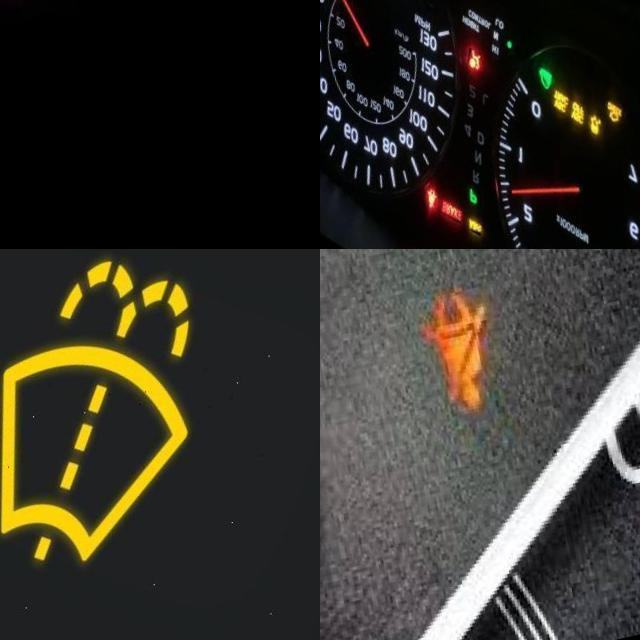Seat Belt: (412, 301, 483, 427)
Washer Fluid: (0, 263, 214, 592)
